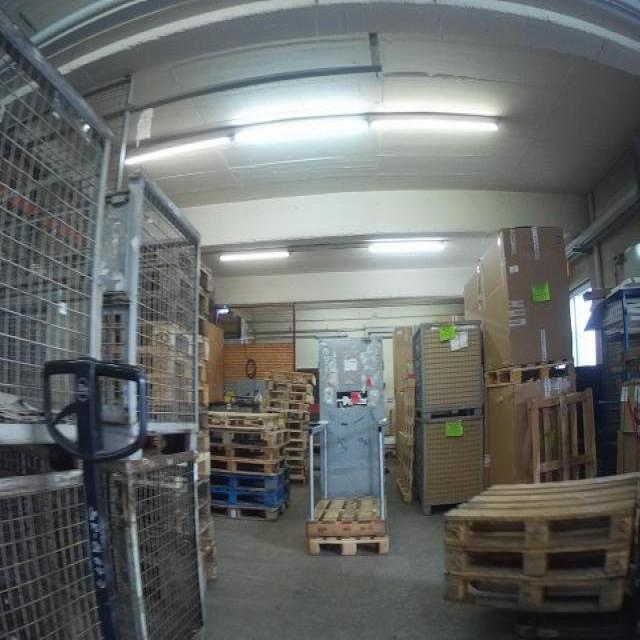pallet: (440, 470, 640, 552), (441, 538, 635, 582), (441, 571, 623, 617), (523, 384, 599, 492), (303, 493, 391, 537), (138, 242, 213, 293), (482, 355, 575, 391), (141, 273, 212, 316), (140, 320, 210, 361), (396, 377, 416, 505), (141, 304, 210, 339), (144, 351, 208, 384), (143, 376, 210, 407), (306, 536, 392, 559), (206, 409, 288, 433), (144, 405, 210, 431), (210, 500, 289, 521), (207, 429, 289, 449), (209, 486, 290, 506), (209, 473, 288, 492), (208, 445, 290, 463), (209, 458, 289, 475), (195, 555, 219, 595), (184, 477, 212, 509), (267, 370, 317, 386), (264, 393, 316, 406), (266, 382, 314, 396), (194, 527, 217, 554), (183, 455, 212, 476), (266, 402, 312, 414), (193, 433, 213, 453), (194, 509, 214, 527), (286, 409, 310, 423), (288, 430, 308, 442), (286, 422, 309, 431), (287, 441, 305, 451), (286, 457, 304, 467), (289, 475, 304, 486), (287, 466, 304, 475), (287, 450, 305, 458)
pallet_truck: (36, 341, 150, 640)
stillage: (2, 162, 205, 446), (4, 5, 124, 467), (2, 453, 113, 636), (133, 445, 215, 638), (412, 414, 490, 523), (409, 318, 486, 421)
